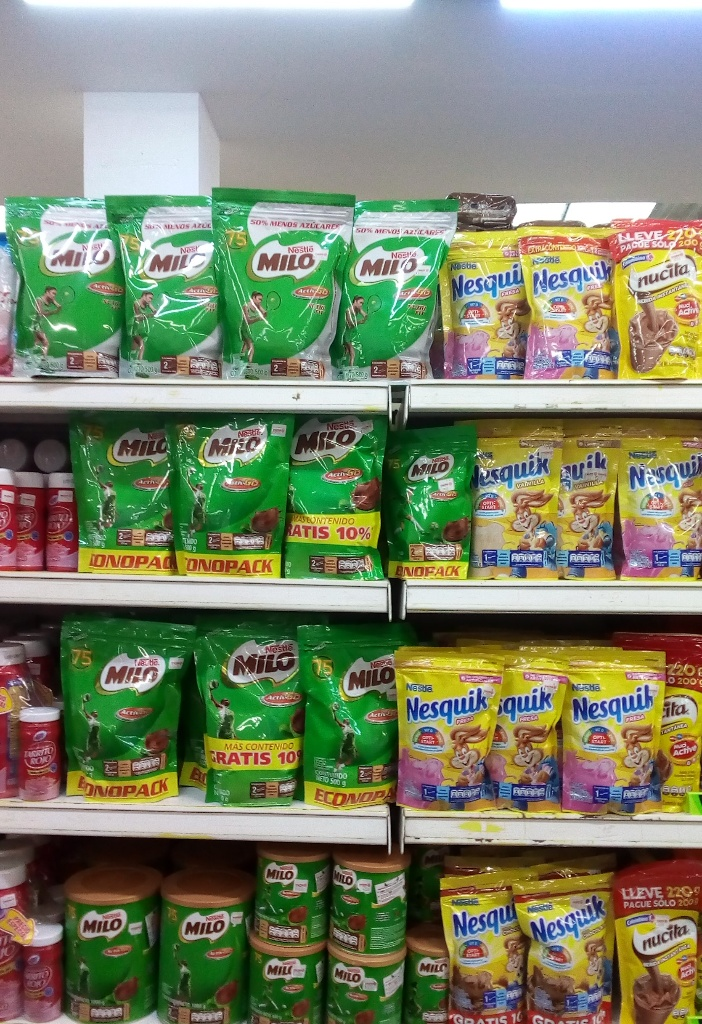COL0170203DYP25000: (388, 430, 482, 582)
COL0170203DYP50000: (70, 410, 185, 579)
COL0170203LAT20000: (410, 936, 452, 1021)
COL0170203LAT40000: (255, 843, 332, 947)
COL0170205DYP50000: (4, 191, 125, 377)
COL0170305DYP20000: (442, 230, 531, 378)
COL0170306DYP20000: (456, 422, 564, 581)
